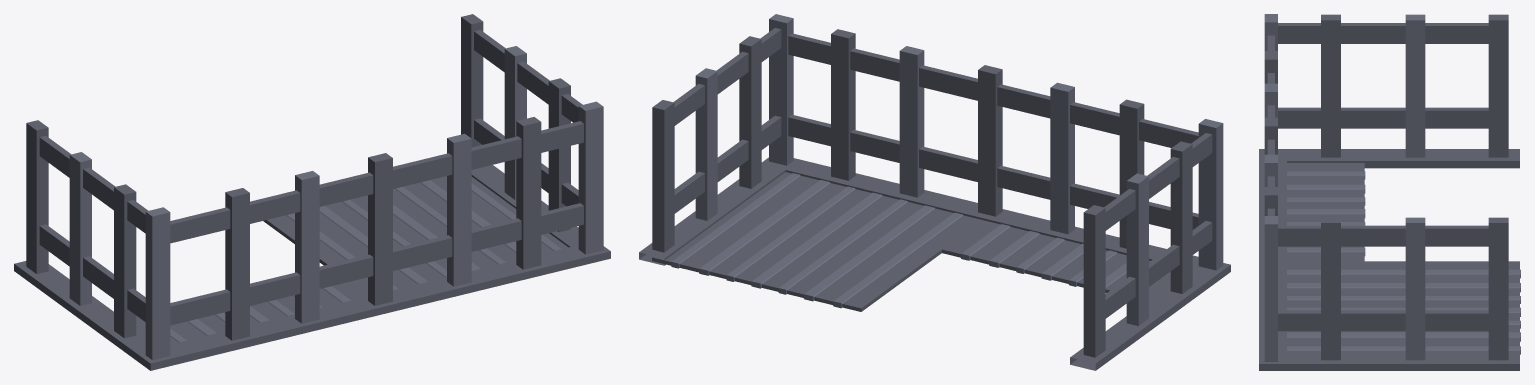
The model's file is SM_House_Stairs_2B.fbx.
3 renders of one model, left to right at view 1: azimuth 30°, elevation 25°; view 2: azimuth 150°, elevation 25°; view 3: azimuth 270°, elevation 25°, orthographic. The views are drawn at different scales.
Parts seen in each view (by area): view 1: SM_House_Stairs_2B_LOD0; view 2: SM_House_Stairs_2B_LOD0; view 3: SM_House_Stairs_2B_LOD0.
Part boxes in pixels (x1=…): SM_House_Stairs_2B_LOD0: x1=14, y1=14, x2=610, y2=370; SM_House_Stairs_2B_LOD0: x1=639, y1=14, x2=1230, y2=370; SM_House_Stairs_2B_LOD0: x1=1259, y1=14, x2=1520, y2=370.
Size of the model in its own units: 327 by 168 by 103.
1 material, 1 textured.
